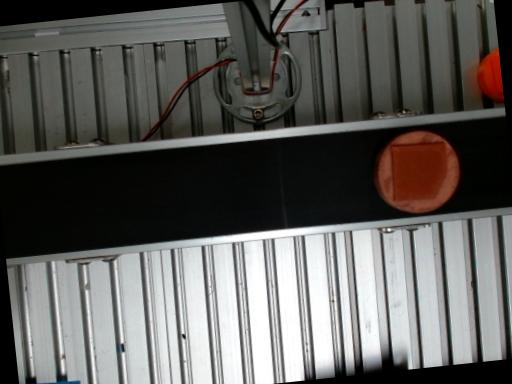Brown_Waper: (374, 130, 459, 213)
Not_Square: (390, 141, 448, 202)
